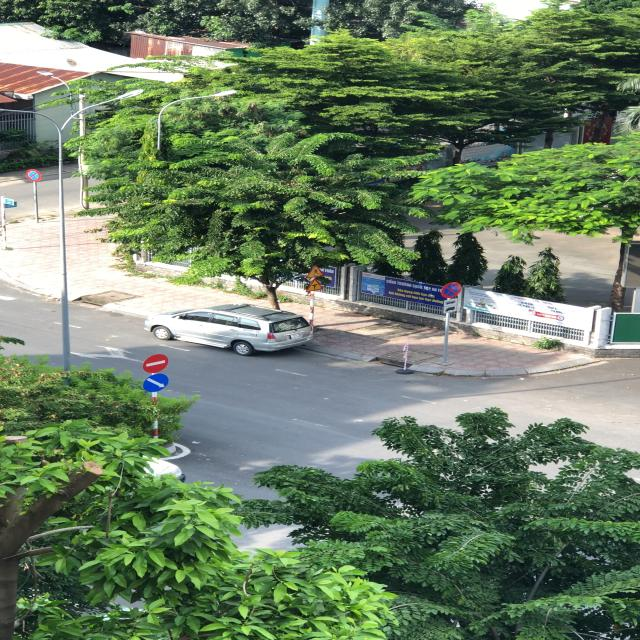Bien bao cam di nguoc chieu: (140, 352, 176, 373)
Bien bao cam dung xe va do xe: (437, 280, 467, 299)
Bien bao duong giao nhau: (303, 278, 328, 292)
Bien bao duong nguoi di bo cat ngang: (305, 264, 325, 278)
Bien bao huong phai di vong chuong ngai vat: (142, 373, 171, 393)
